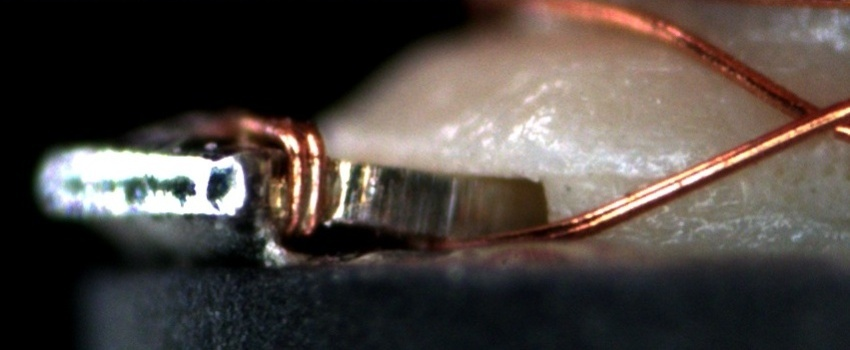CL: (768, 85, 849, 145)
DL: (553, 147, 694, 211)
TE: (230, 103, 331, 247)
